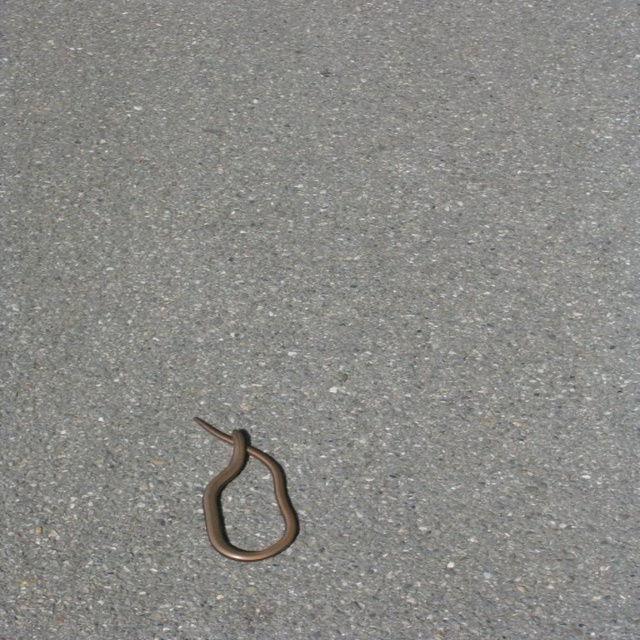Snake: (194, 421, 298, 562)
